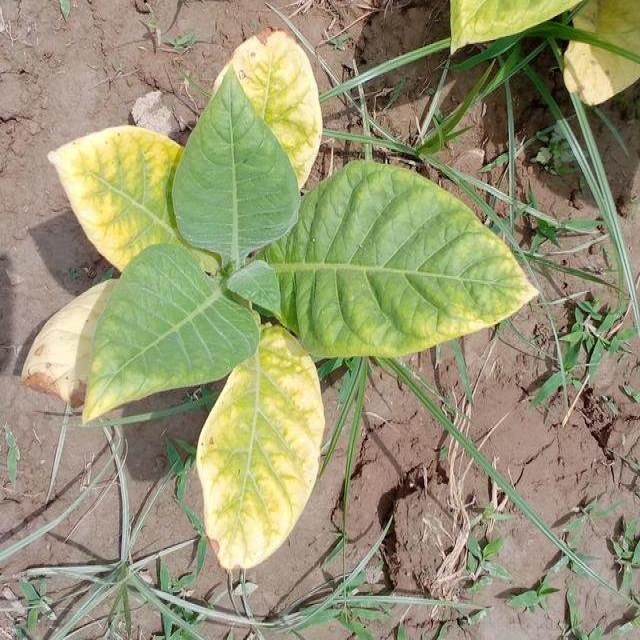crop: (43, 67, 544, 611), (450, 0, 640, 99)
